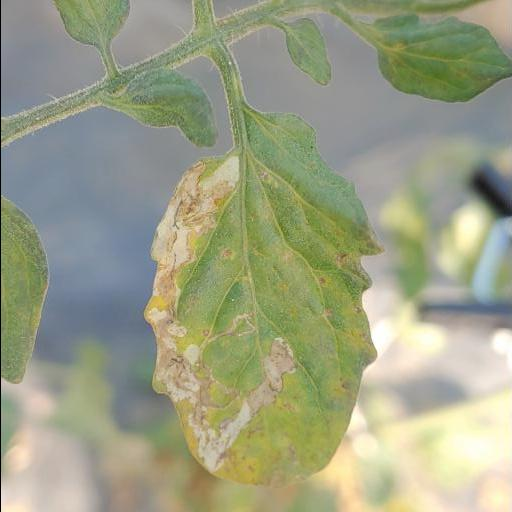disease_tomato: (144, 104, 386, 487)
